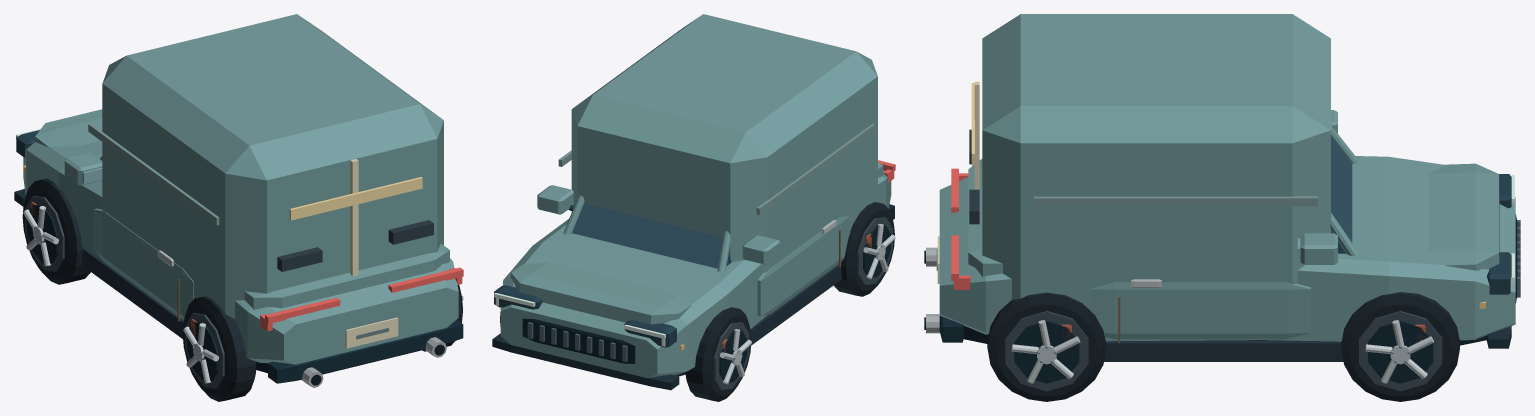
File: atlas-cargo.glb
The picture shows the model from 3 angles, left to right: view 1: azimuth 30°, elevation 25°; view 2: azimuth 150°, elevation 25°; view 3: azimuth 270°, elevation 25°; orthographic projection. The views are drawn at different scales.
Visible parts, largest first — view 1: atlas-cargo; view 2: atlas-cargo; view 3: atlas-cargo.
Part boxes in pixels (x1,y1,x2,y2): atlas-cargo: [14, 14, 463, 401]; atlas-cargo: [492, 14, 895, 401]; atlas-cargo: [924, 14, 1520, 401].
Size of the model in its own units: 2.54 by 2.41 by 4.62.
